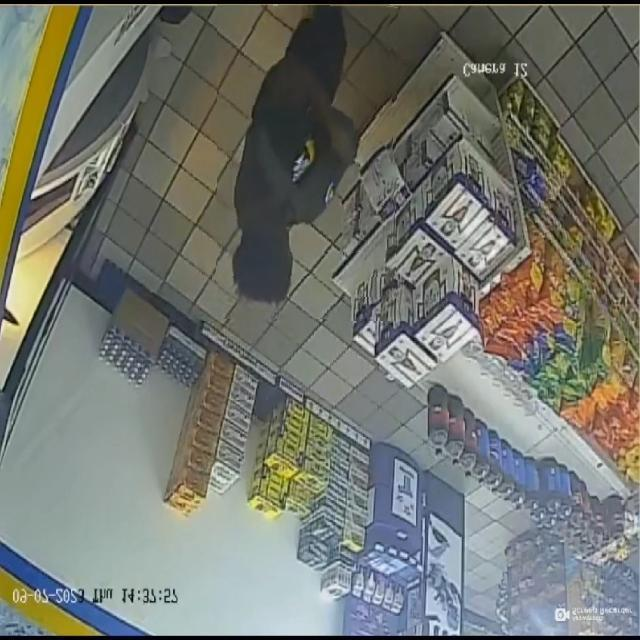Normal: (217, 4, 397, 321)
